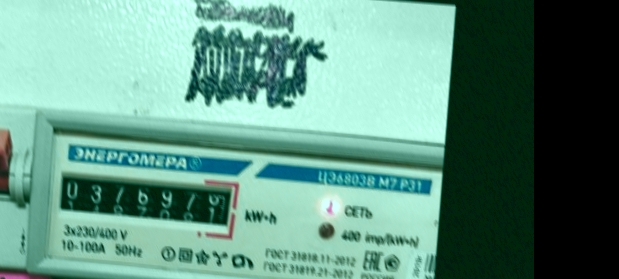0: (65, 178, 79, 199)
1: (205, 204, 218, 223)
3: (89, 182, 103, 203)
6: (136, 183, 150, 205)
7: (183, 189, 197, 212), (112, 182, 126, 204)
9: (159, 187, 173, 209)
screen: (50, 162, 244, 240)
